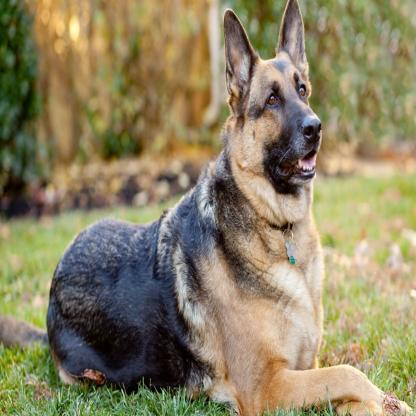german shepherd: (0, 10, 353, 416)
